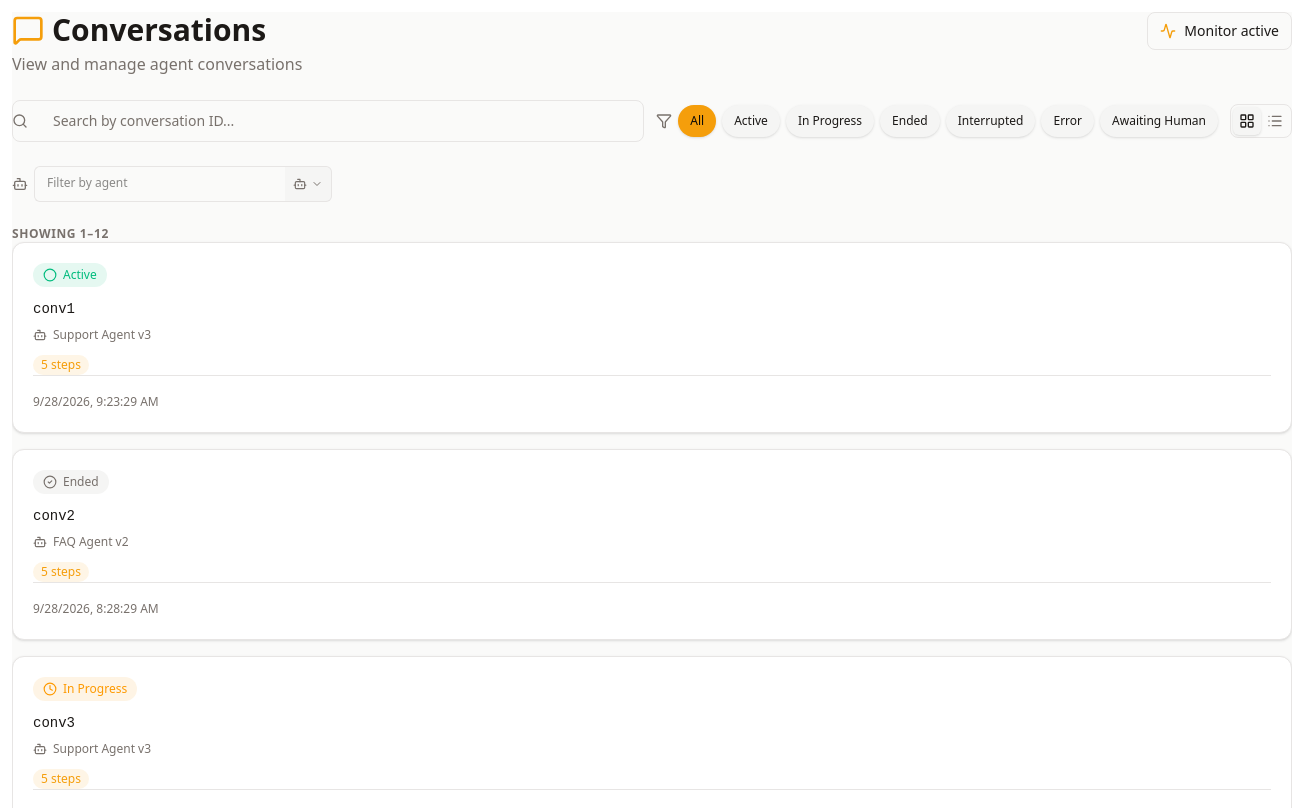
ConversationsPage › renders table headers in list view
What coordinates should you click on to do the following:
click the radio button with test id "view-toggle-list"
I would click on:
 (1275, 121)
Its box is left=1261, top=107, right=1289, bottom=135.
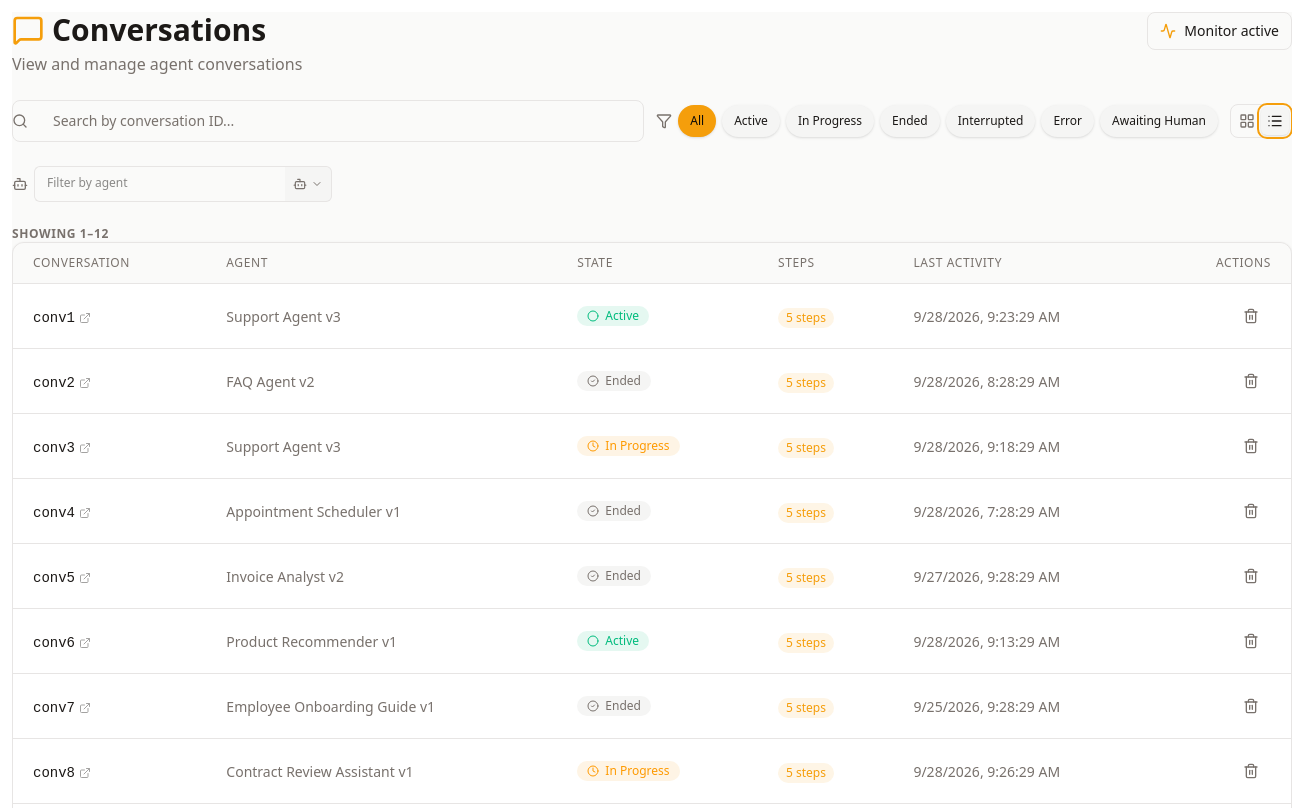
Check: the column heading "Conversation" is shown, box left=13, top=243, right=206, bottom=284
Check: the column heading "Agent" is shown, box left=206, top=243, right=557, bottom=284
Check: the column heading "State" is shown, box left=557, top=243, right=758, bottom=284
